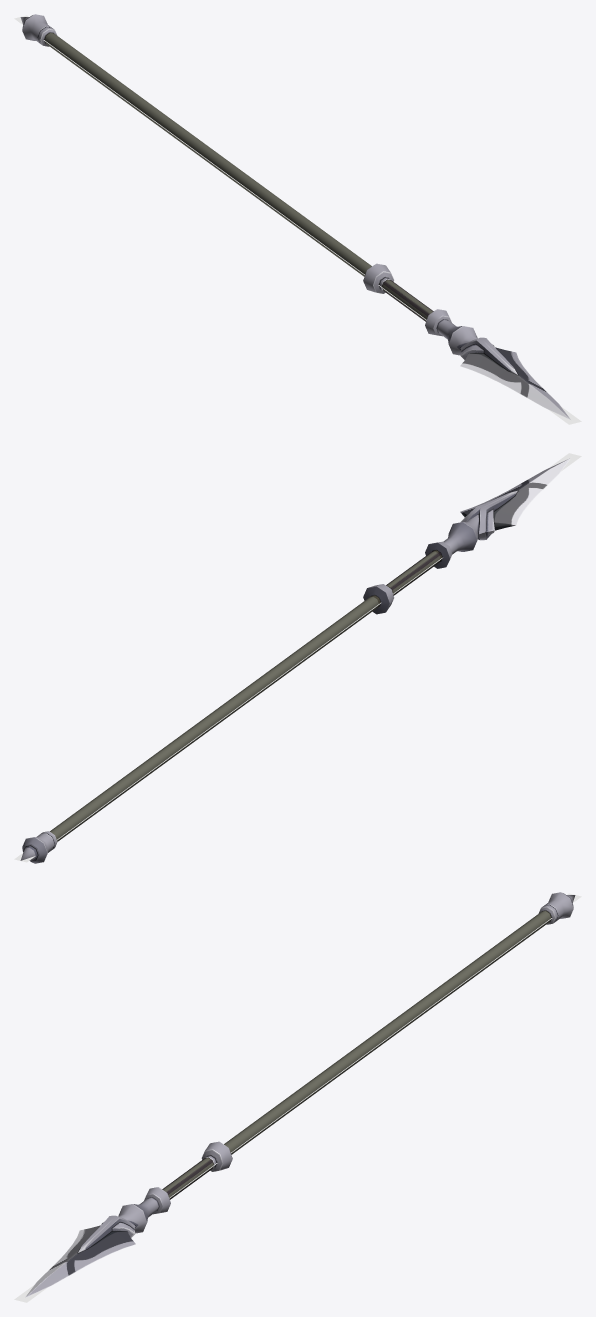
The model's file is Equip_Pole_Rod.fbx.
3 views of the same model, one above another, from view 1: azimuth 30°, elevation 25°; view 2: azimuth 150°, elevation 25°; view 3: azimuth 330°, elevation 25° (orthographic).
Parts seen in each view (by area): view 1: Equip_Pole_Rod_Model, Equip_Pole_EffectMesh; view 2: Equip_Pole_Rod_Model, Equip_Pole_EffectMesh; view 3: Equip_Pole_Rod_Model, Equip_Pole_EffectMesh.
Part boxes in pixels (bbox=[...]): Equip_Pole_Rod_Model: bbox=[20, 14, 570, 419]; Equip_Pole_EffectMesh: bbox=[14, 15, 581, 424]; Equip_Pole_Rod_Model: bbox=[20, 458, 570, 863]; Equip_Pole_EffectMesh: bbox=[14, 453, 581, 862]; Equip_Pole_Rod_Model: bbox=[25, 892, 575, 1297]; Equip_Pole_EffectMesh: bbox=[14, 893, 581, 1302].
Bounding box in the file's own units: 0.1231 × 0.066 × 2.1.
2 materials, 1 textured.
